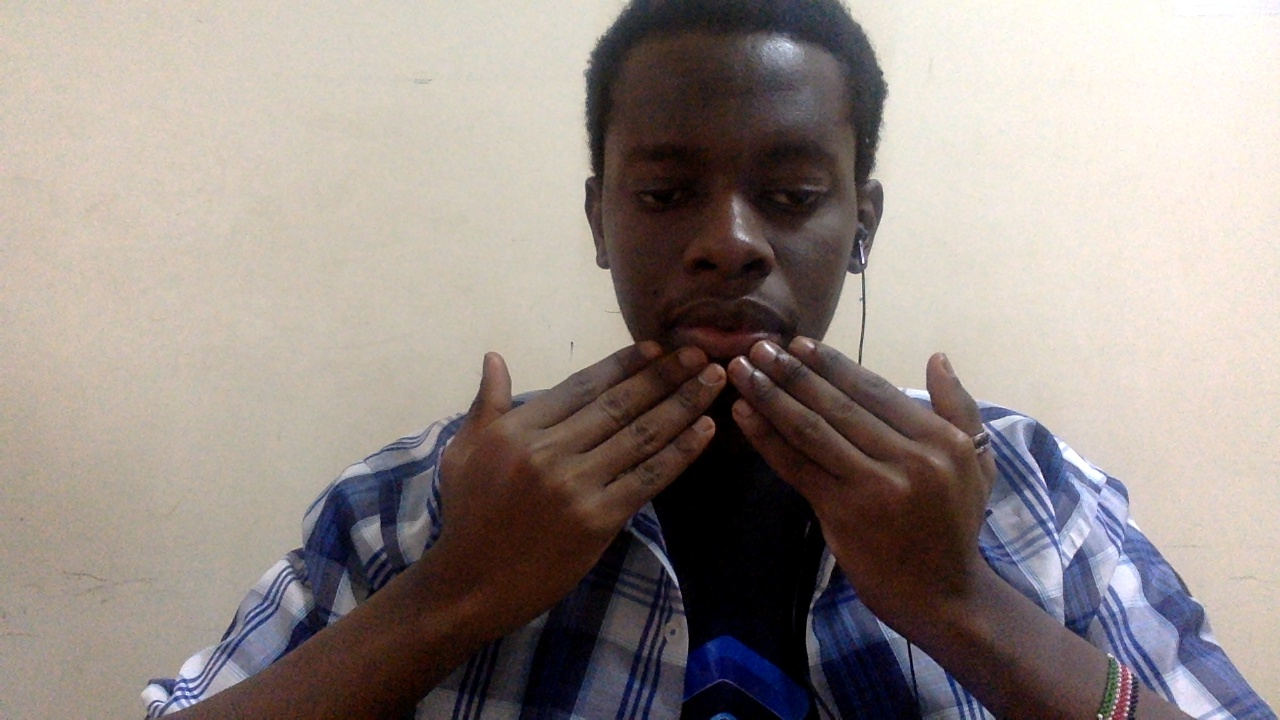ThankYou: (437, 334, 996, 617)
